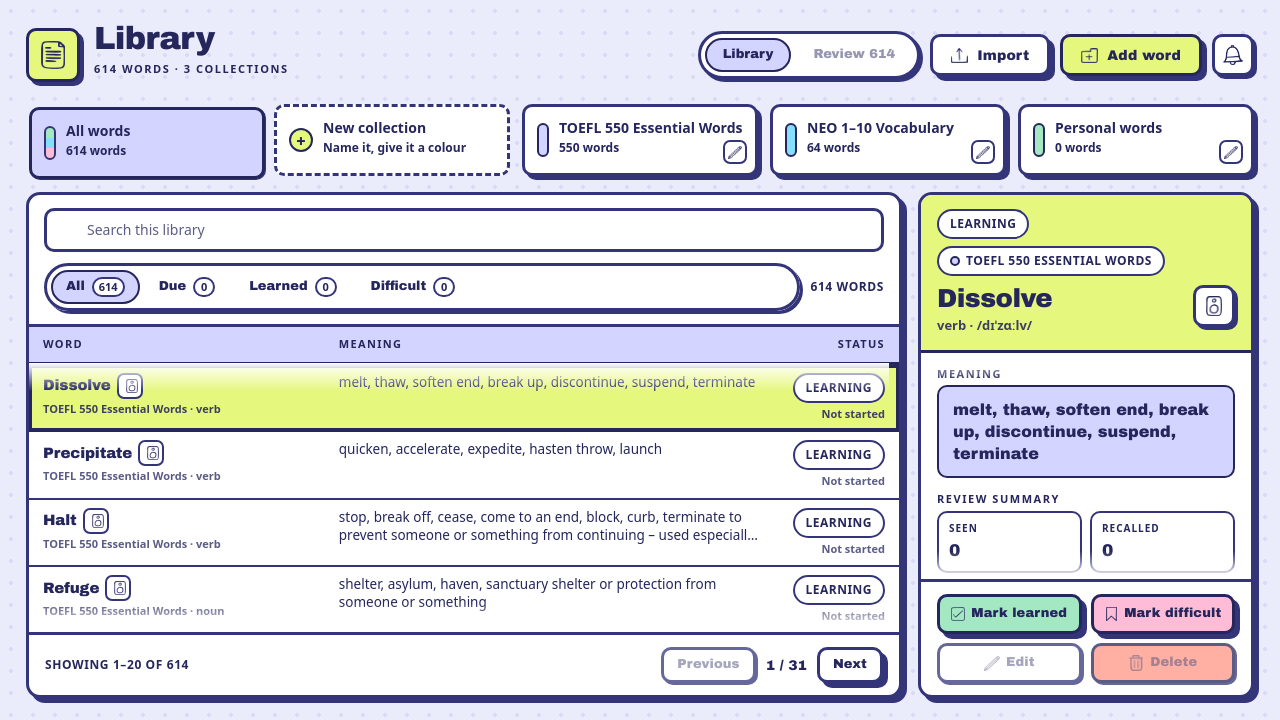
Test case: VocabularyLibrary accessibility › uses one live region and returns focus after clearing an empty search
expect the number of messages is 1: met, box [810,278,884,296]
Type "not-a-word-in-this-library" into the search field named "Search vocabulary" at (477, 230), box [87,221,867,240]
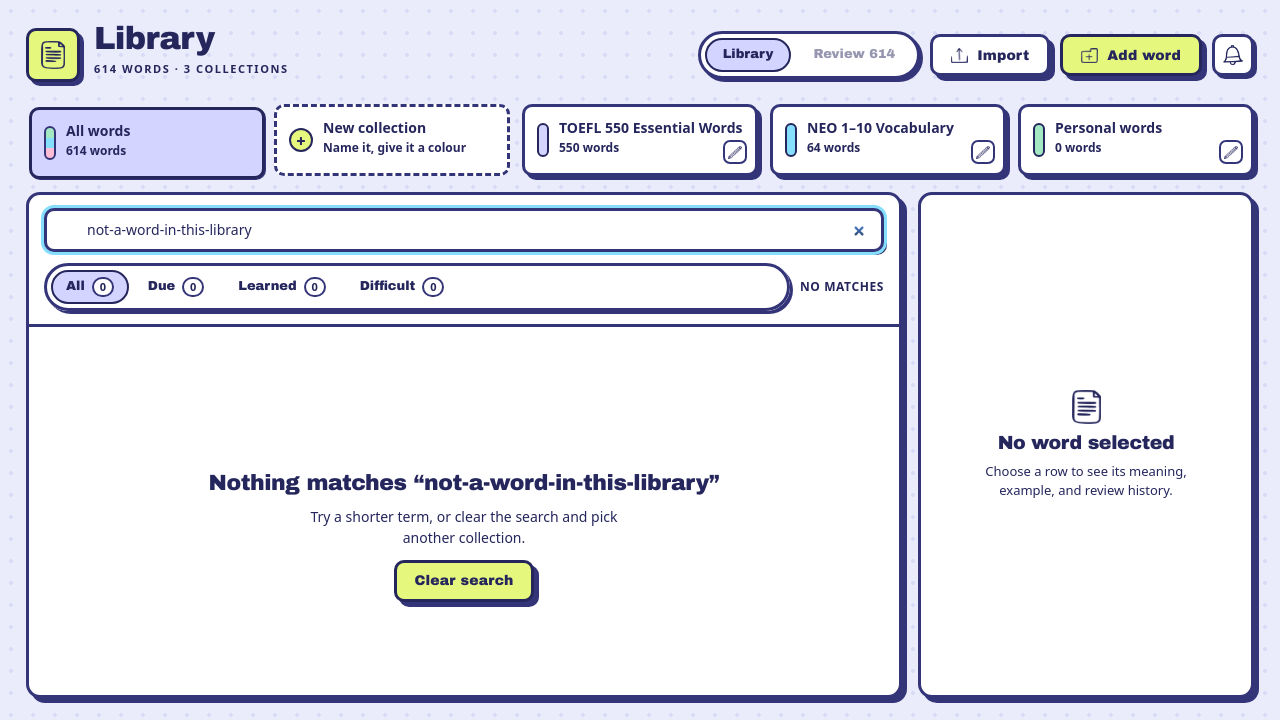
expect the number of messages is 1: met, box [800,278,884,296]
expect the button "Clear search" is shown: met
Click the button "Clear search" at (464, 581), box [394,560,534,602]
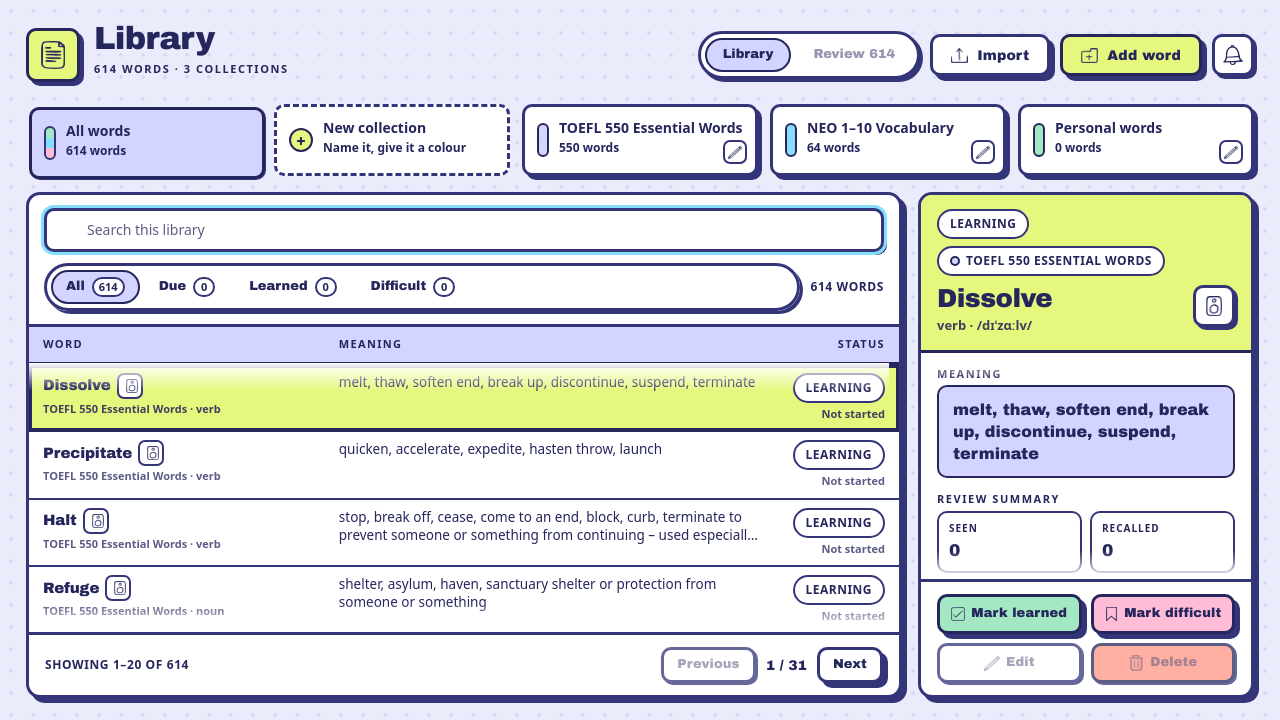
expect the search field named "Search vocabulary" is empty: met, box [87,221,867,240]
